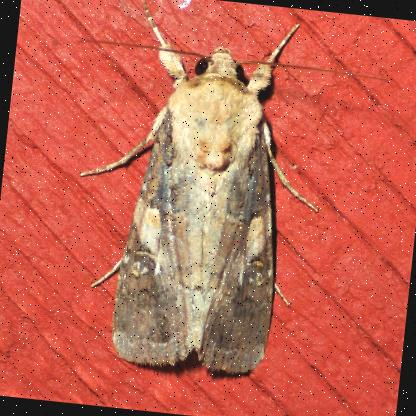Fall Armyworm Moth: (57, 0, 342, 386)
